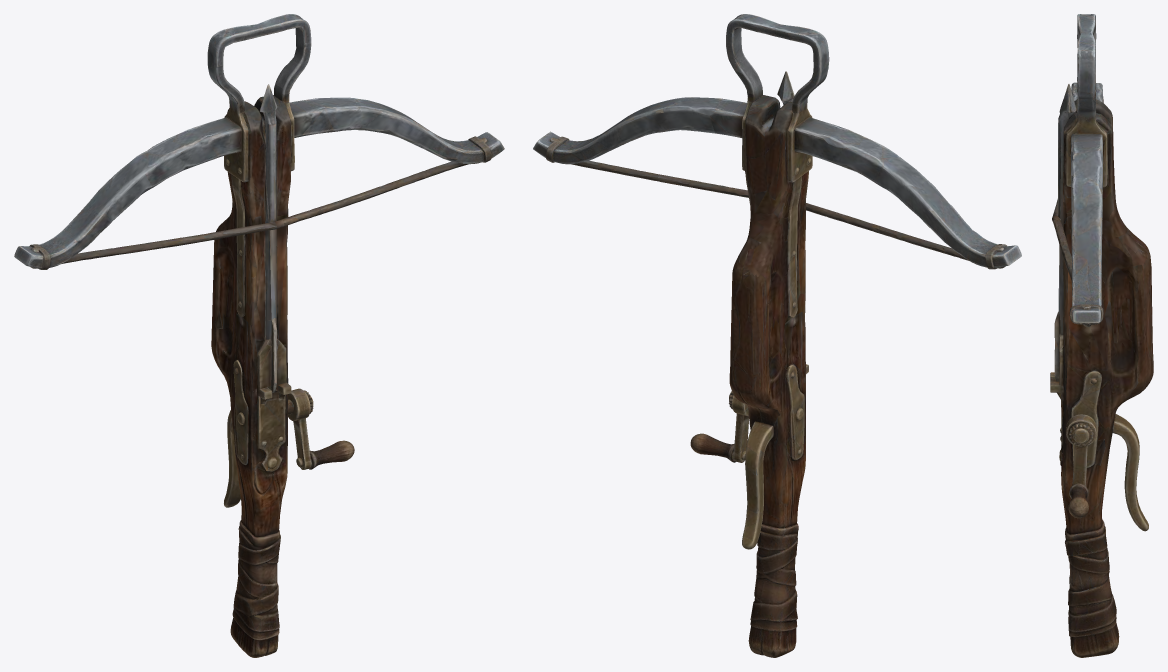
File: heavy_crossbow.glb
3 views of the same model, side by side, from view 1: azimuth 30°, elevation 25°; view 2: azimuth 150°, elevation 25°; view 3: azimuth 270°, elevation 25° (orthographic).
Visible parts, largest first — view 1: Mesh_0; view 2: Mesh_0; view 3: Mesh_0.
Part boxes in pixels (box(x1,y1,x2,y2)): Mesh_0: box(14, 14, 504, 657); Mesh_0: box(533, 14, 1021, 657); Mesh_0: box(1050, 14, 1153, 657).
Bounding box in the file's own units: 0.6762 × 0.85 × 0.128.
Materials: 1 (1 with a texture image).
